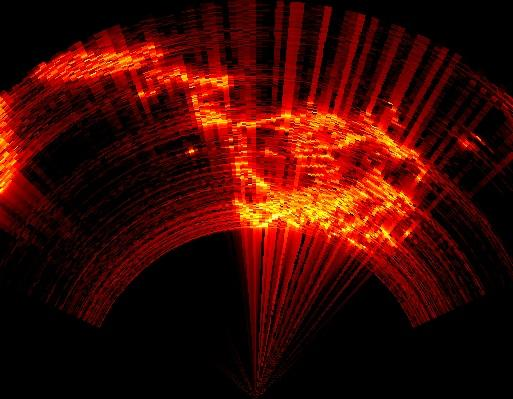shipwreck: (135, 64, 416, 165), (228, 138, 414, 248), (35, 45, 161, 80)
